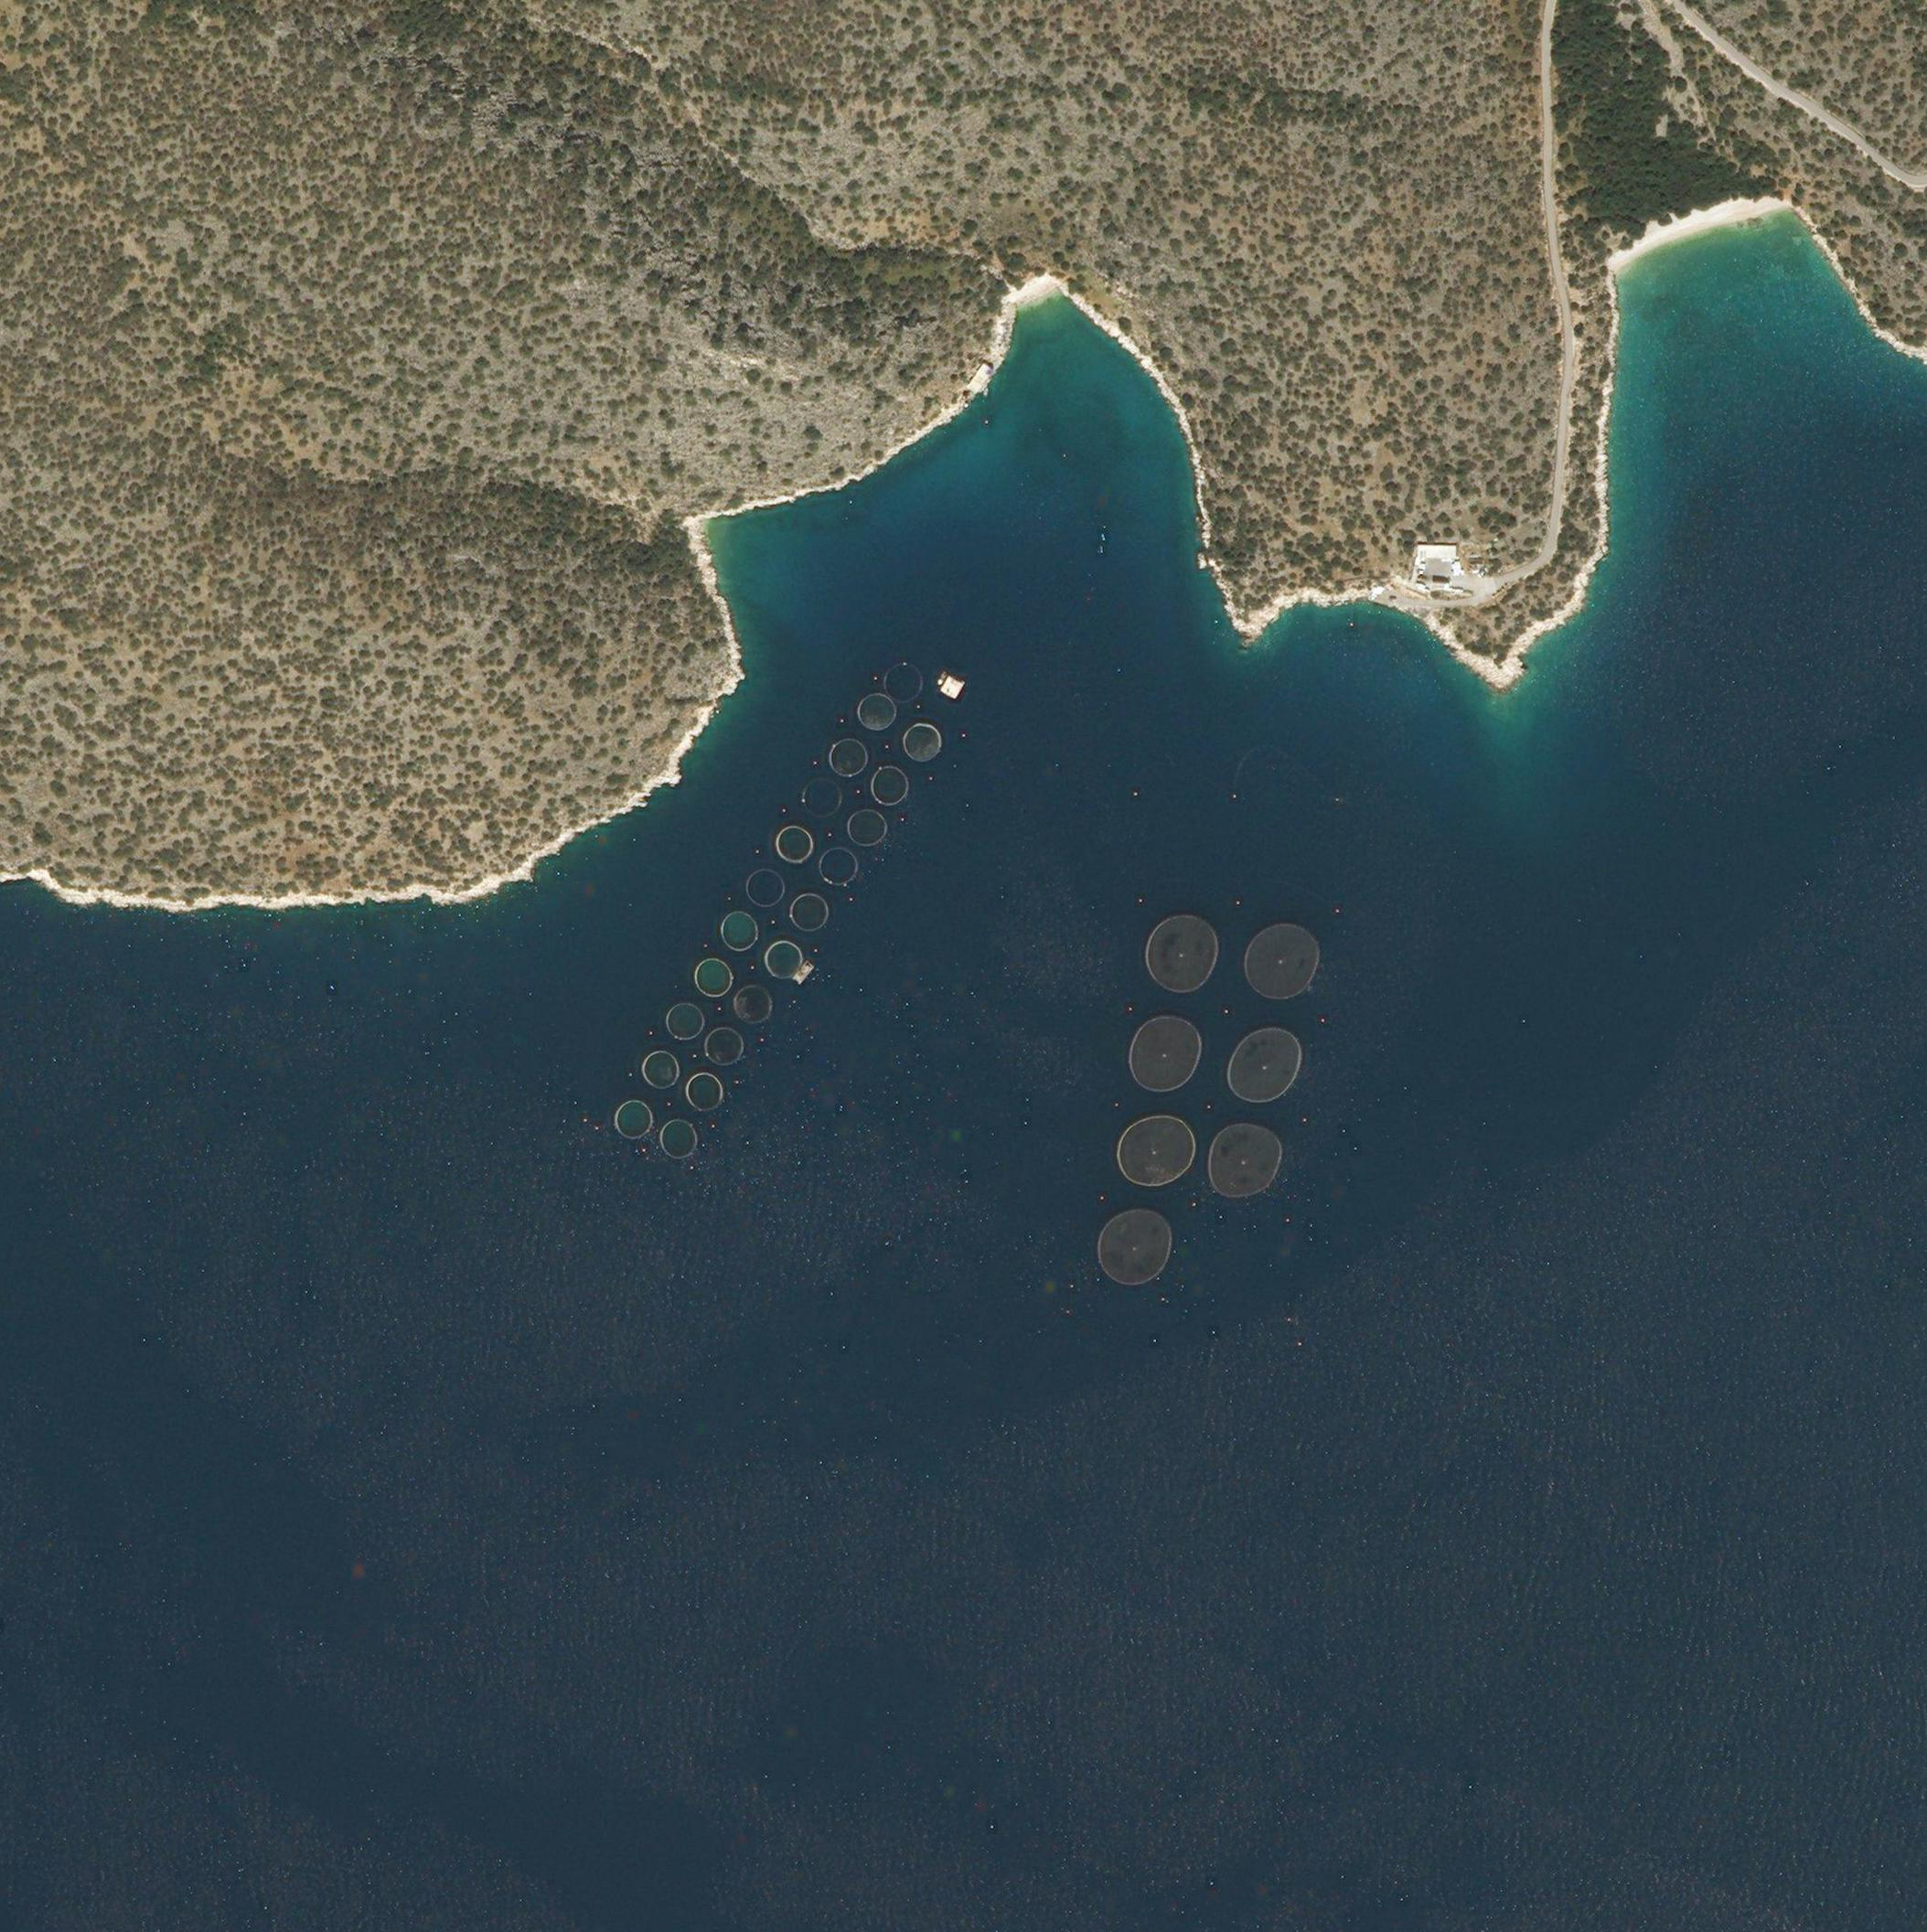c: (1241, 919, 1322, 1000), (1124, 1013, 1205, 1094), (1143, 912, 1221, 995), (1115, 1113, 1196, 1189), (1225, 1025, 1302, 1103), (1209, 1122, 1285, 1200), (1098, 1209, 1172, 1288), (716, 907, 761, 955), (611, 1096, 655, 1140), (681, 1069, 724, 1115), (702, 1023, 748, 1066), (762, 939, 808, 981), (785, 891, 831, 933), (637, 1046, 679, 1090), (664, 999, 708, 1041), (692, 955, 734, 999), (882, 660, 925, 704), (826, 736, 868, 780), (817, 845, 861, 887), (900, 722, 942, 764), (658, 1117, 699, 1161), (854, 692, 898, 732), (801, 776, 842, 819), (868, 764, 909, 806), (847, 806, 889, 847), (746, 868, 787, 910), (773, 824, 814, 865)
